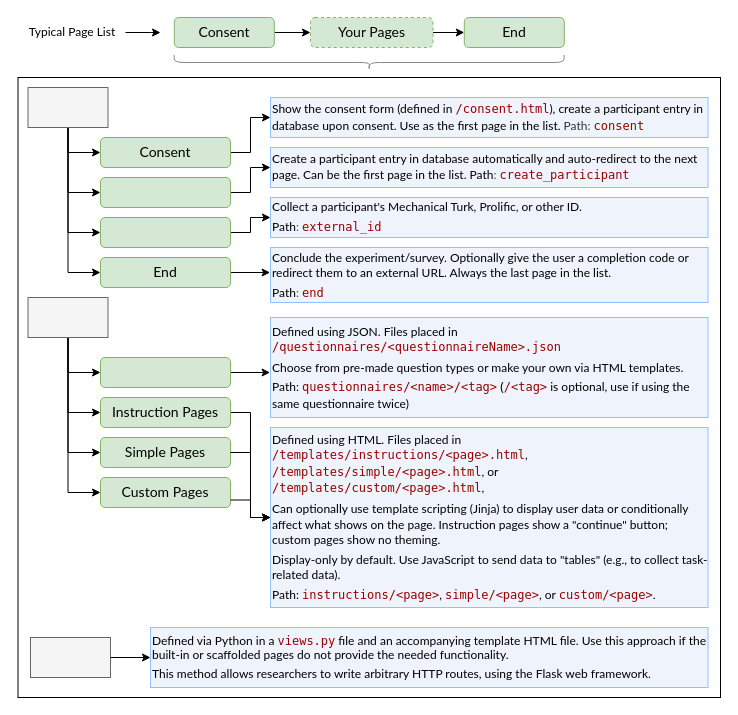
This 738x715 diagram has some shape labels left out. The centre of each missing label's shape, as x and y in pixels:
"Blueprint-Defined" belongs at point 70,657.
"Built-In Pages" belongs at point 67,107.
"Create Participant" belongs at point 165,192.
"Questionnaires" belongs at point 165,372.
"Record External ID" belongs at point 165,232.
"Scaffolded Pages" belongs at point 67,317.
